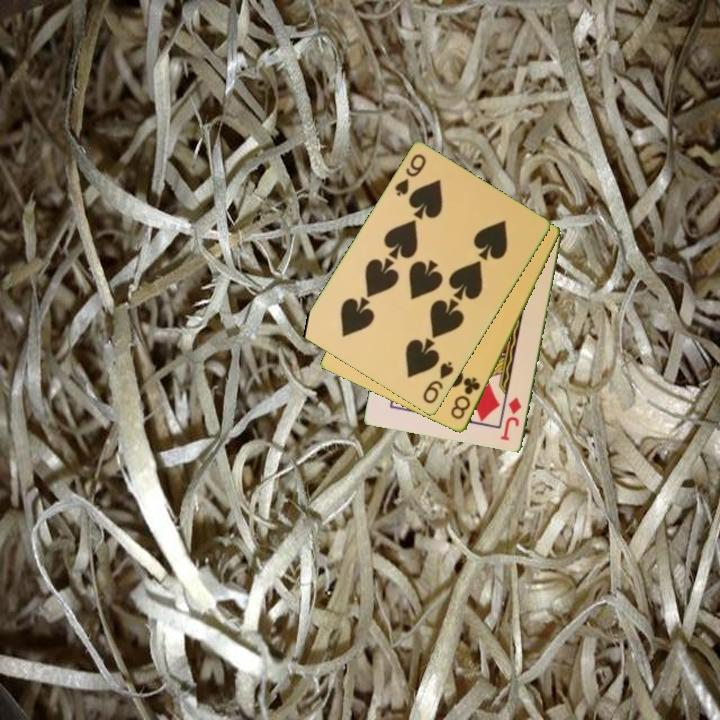8c: (447, 374, 483, 423)
9s: (391, 150, 429, 200), (419, 358, 457, 407)
Jd: (497, 394, 525, 444)
